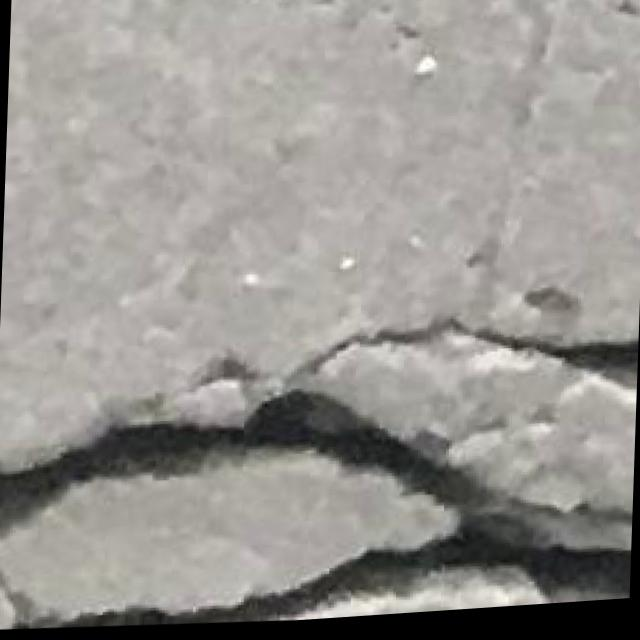Crack: (0, 288, 639, 640)
